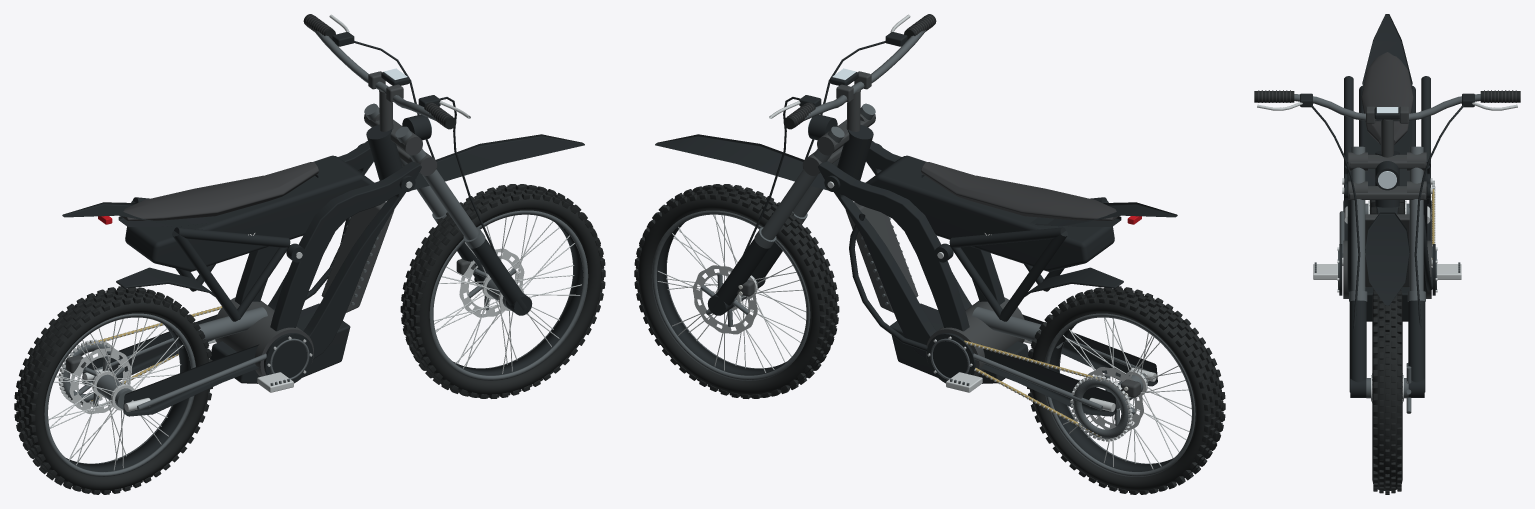
The model's file is talaria-xxx-mx.glb.
3 renders of one model, left to right at view 1: azimuth 30°, elevation 25°; view 2: azimuth 150°, elevation 25°; view 3: azimuth 270°, elevation 25°, orthographic. The views are drawn at different scales.
Visible parts, largest first — view 1: FrontWheel | Offroad tyre rubber, RearWheel | Offroad tyre rubber, Chassis | Satin black polymer, BatteryMount | Satin black polymer, RearSuspension | Satin black polymer, Bodywork | Satin black polymer, Bodywork | Grained charcoal saddle, RearWheel | Machined satin aluminium, FrontWheel | Machined satin aluminium, MotorMount | Satin black polymer, RearWheel | Anodized gunmetal, FrontWheel | Anodized gunmetal (+12 smaller); view 2: FrontWheel | Offroad tyre rubber, RearWheel | Offroad tyre rubber, Chassis | Satin black polymer, BatteryMount | Satin black polymer, RearSuspension | Satin black polymer, Bodywork | Satin black polymer, Bodywork | Grained charcoal saddle, MotorMount | Satin black polymer, FrontWheel | Machined satin aluminium, FrontWheel | Anodized gunmetal, RearWheel | Machined satin aluminium, RearWheel | Anodized gunmetal (+15 smaller); view 3: FrontWheel | Offroad tyre rubber, Bodywork | Satin black polymer, Fork | Anodized gunmetal, Fork | Satin black polymer, Bodywork | Grained charcoal saddle, Fork | Cast graphite aluminium, Cockpit | Satin black polymer, RearSuspension | Satin black polymer, BatteryMount | Satin black polymer, Chassis | Satin black polymer, MotorMount | Satin black polymer, Cockpit | Anodized gunmetal (+10 smaller).
Boxes of the visible parts, x1,y1,x2,y2 form: FrontWheel | Offroad tyre rubber: (400, 184, 605, 398); RearWheel | Offroad tyre rubber: (14, 286, 212, 494); Chassis | Satin black polymer: (235, 124, 421, 359); BatteryMount | Satin black polymer: (125, 155, 374, 271); RearSuspension | Satin black polymer: (82, 197, 290, 416); Bodywork | Satin black polymer: (62, 134, 584, 296); Bodywork | Grained charcoal saddle: (121, 162, 318, 221); RearWheel | Machined satin aluminium: (48, 317, 183, 470); FrontWheel | Machined satin aluminium: (434, 214, 581, 373); MotorMount | Satin black polymer: (210, 217, 350, 383); RearWheel | Anodized gunmetal: (44, 313, 195, 476); FrontWheel | Anodized gunmetal: (429, 210, 588, 380); FrontWheel | Offroad tyre rubber: (634, 184, 839, 398); RearWheel | Offroad tyre rubber: (1027, 286, 1225, 494); Chassis | Satin black polymer: (818, 124, 1004, 359); BatteryMount | Satin black polymer: (865, 155, 1114, 271); RearSuspension | Satin black polymer: (949, 197, 1157, 416); Bodywork | Satin black polymer: (655, 134, 1177, 296); Bodywork | Grained charcoal saddle: (921, 162, 1118, 221); MotorMount | Satin black polymer: (849, 213, 1029, 383); FrontWheel | Machined satin aluminium: (657, 214, 806, 372); FrontWheel | Anodized gunmetal: (651, 210, 810, 380); RearWheel | Machined satin aluminium: (1063, 317, 1191, 469); RearWheel | Anodized gunmetal: (1044, 313, 1195, 476); FrontWheel | Offroad tyre rubber: (1372, 288, 1402, 494); Bodywork | Satin black polymer: (1362, 14, 1412, 305); Fork | Anodized gunmetal: (1349, 146, 1425, 301); Fork | Satin black polymer: (1349, 300, 1425, 397); Bodywork | Grained charcoal saddle: (1361, 52, 1413, 144); Fork | Cast graphite aluminium: (1348, 152, 1426, 199); Cockpit | Satin black polymer: (1300, 93, 1474, 328); RearSuspension | Satin black polymer: (1343, 76, 1431, 240); BatteryMount | Satin black polymer: (1359, 86, 1415, 185); Chassis | Satin black polymer: (1344, 151, 1430, 293); MotorMount | Satin black polymer: (1339, 215, 1435, 321); Cockpit | Anodized gunmetal: (1294, 94, 1480, 121).
Bounding box in the file's own units: 1.79 × 1.06 × 0.756.
